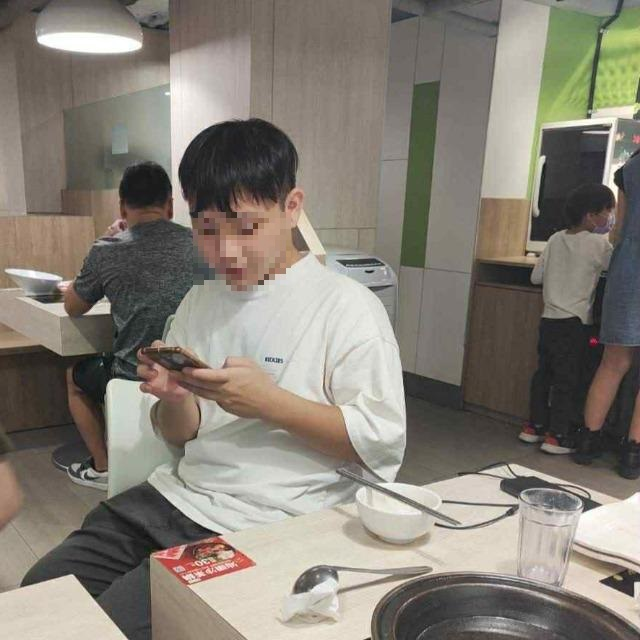NoHelmet: (176, 118, 308, 287), (116, 156, 176, 228)
